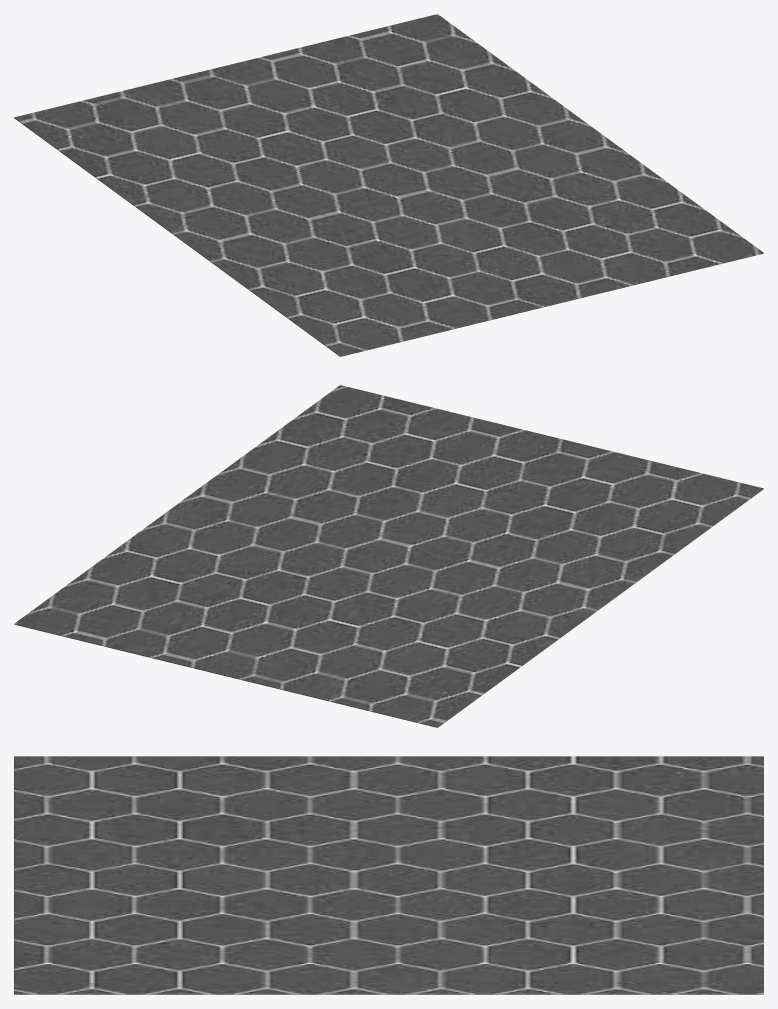
The model's file is carpet.obj.
3 renders of one model, top to bottom at view 1: azimuth 30°, elevation 25°; view 2: azimuth 150°, elevation 25°; view 3: azimuth 270°, elevation 25°, orthographic. The views are drawn at different scales.
Parts seen in each view (by area): view 1: ChamferBox001; view 2: ChamferBox001; view 3: ChamferBox001.
Part boxes in pixels (box(x1,y1,x2,y2)): ChamferBox001: box(14, 14, 763, 356); ChamferBox001: box(14, 385, 763, 727); ChamferBox001: box(14, 756, 763, 994).
Size of the model in its own units: 165 by 0.36 by 220.
